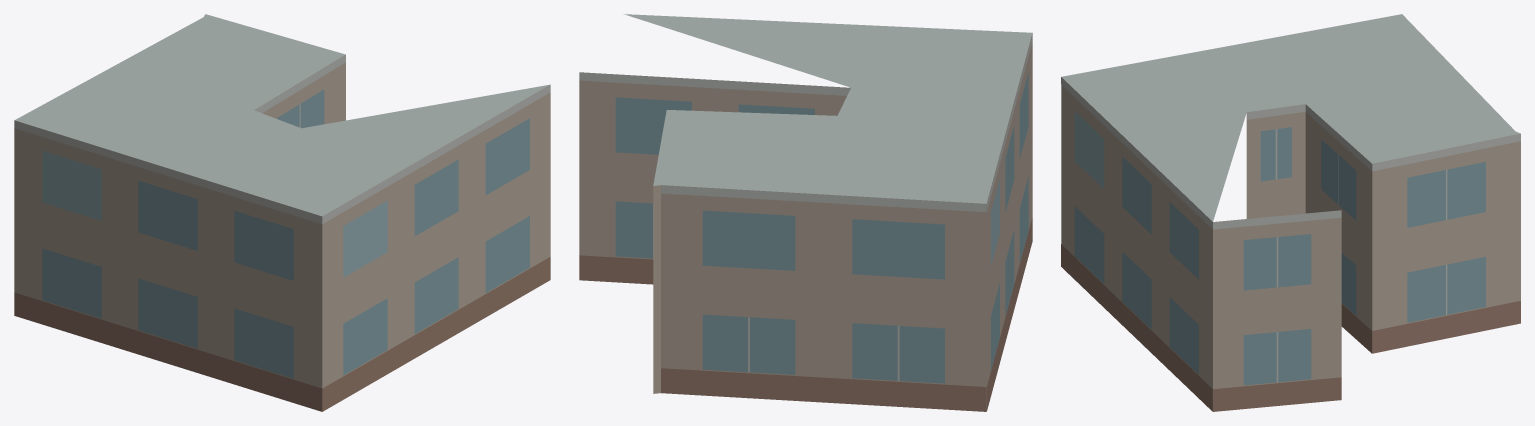
File: survey-upis-32764290.glb
3 views of the same model, side by side, from view 1: azimuth 30°, elevation 25°; view 2: azimuth 150°, elevation 25°; view 3: azimuth 270°, elevation 25° (orthographic). The views are drawn at different scales.
Visible parts, largest first — view 1: survey-upis-32764290.tmp; view 2: survey-upis-32764290.tmp; view 3: survey-upis-32764290.tmp.
Boxes of the visible parts, left/top/right/bottom form: survey-upis-32764290.tmp: left=14, top=14, right=550, bottom=411; survey-upis-32764290.tmp: left=579, top=14, right=1032, bottom=411; survey-upis-32764290.tmp: left=1061, top=14, right=1520, bottom=411.
Size of the model in its own units: 14.35 by 6.1 by 13.4.
